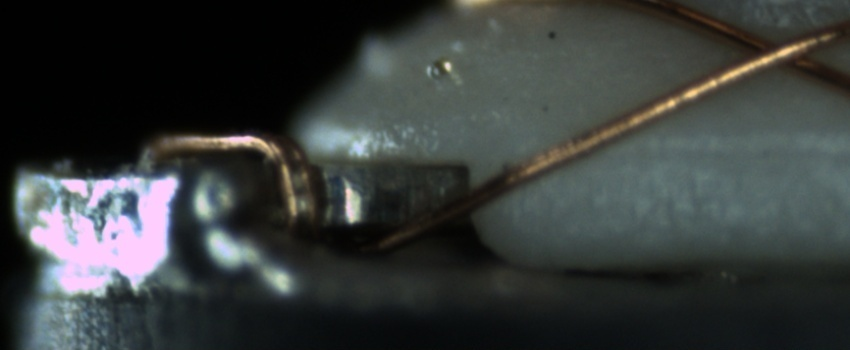CL: (712, 19, 837, 82)
DL: (577, 117, 842, 182)
TE: (150, 115, 322, 247)
